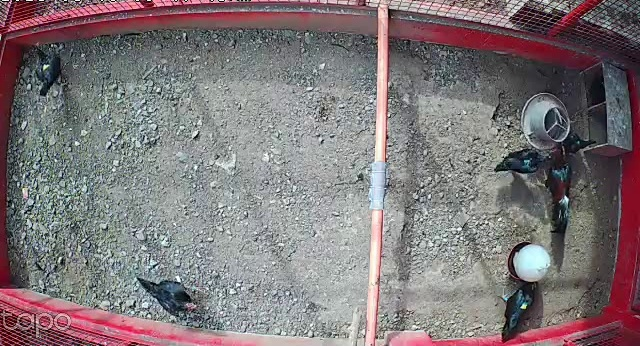Chicken: (488, 280, 541, 345), (133, 274, 204, 318), (26, 43, 73, 97), (487, 144, 548, 180), (557, 126, 593, 155)
Rooster: (534, 144, 577, 236)
Saddle_Color_Yellow: (41, 63, 52, 71)
Saddle_Color_YellowGreen: (520, 300, 530, 309)
